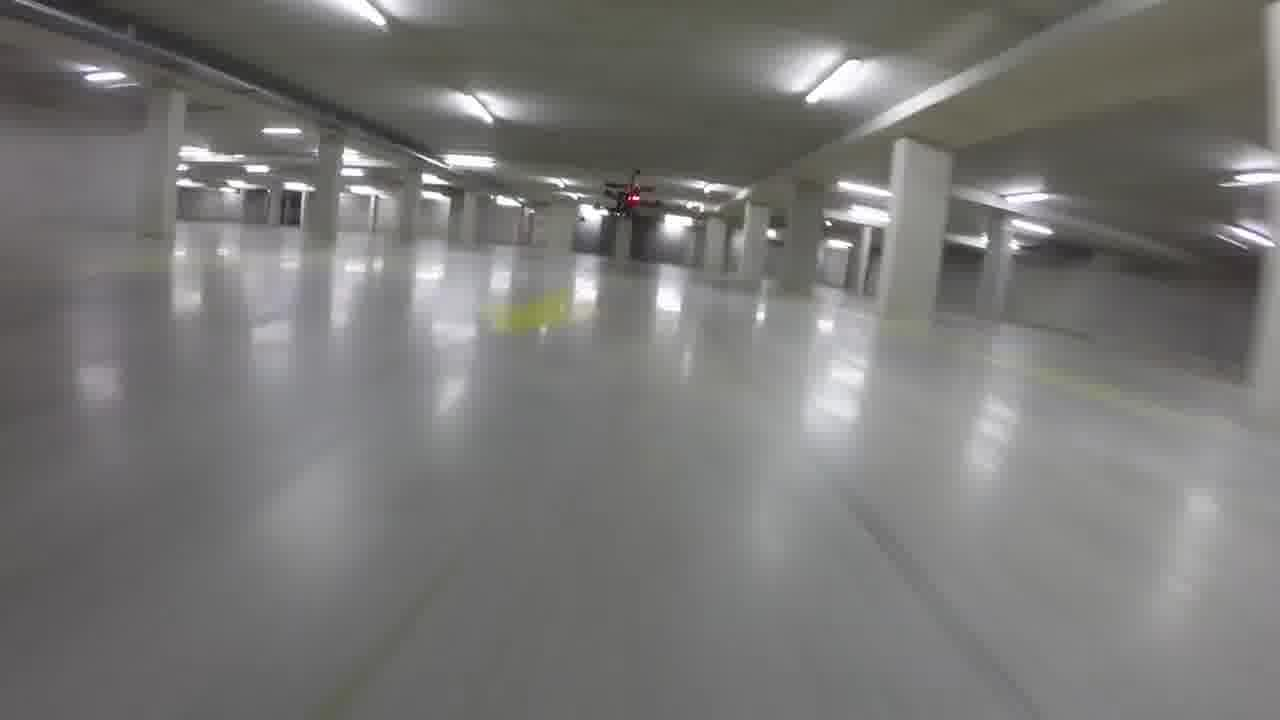drone: (583, 169, 663, 241)
